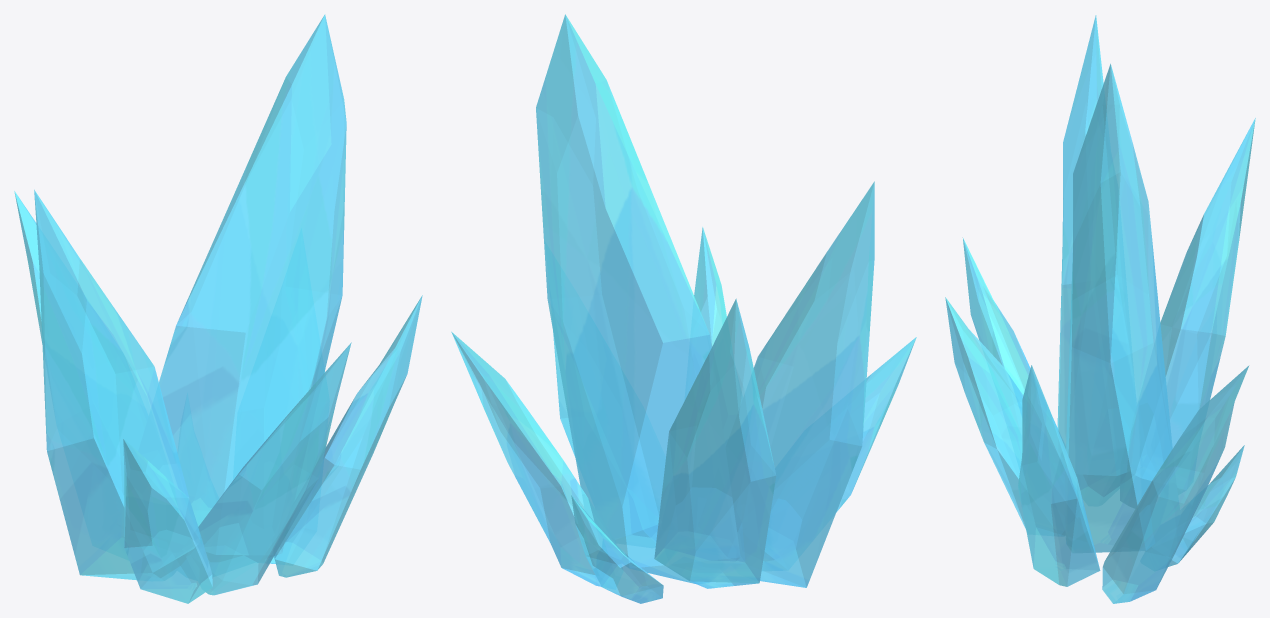
Rendered from espinho de gelo.glb.
The picture shows the model from 3 angles, left to right: view 1: azimuth 30°, elevation 25°; view 2: azimuth 150°, elevation 25°; view 3: azimuth 270°, elevation 25°; orthographic projection. The views are drawn at different scales.
Parts seen in each view (by area): view 1: Crystal-col; view 2: Crystal-col; view 3: Crystal-col.
Part boxes in pixels (left/top/right/bottom): Crystal-col: left=14, top=14, right=422, bottom=603; Crystal-col: left=451, top=14, right=916, bottom=603; Crystal-col: left=945, top=15, right=1255, bottom=603.
Bounding box in the file's own units: 15.66 × 22.94 × 11.56.
Materials: 1 (1 with a texture image).
